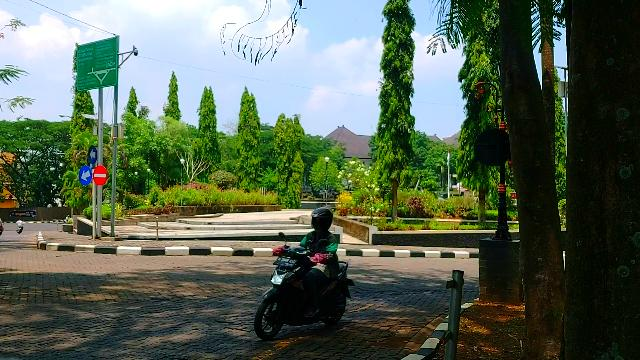helm: (310, 208, 334, 233)
motor: (254, 231, 358, 343)
